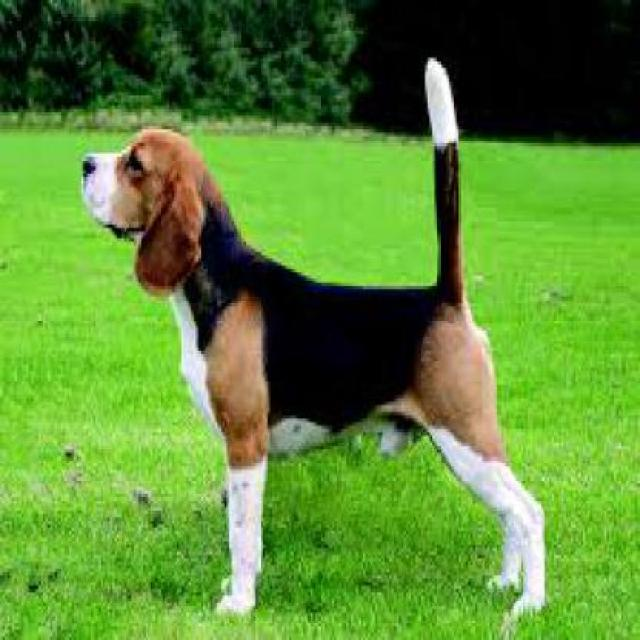Dog: (74, 54, 554, 637)
